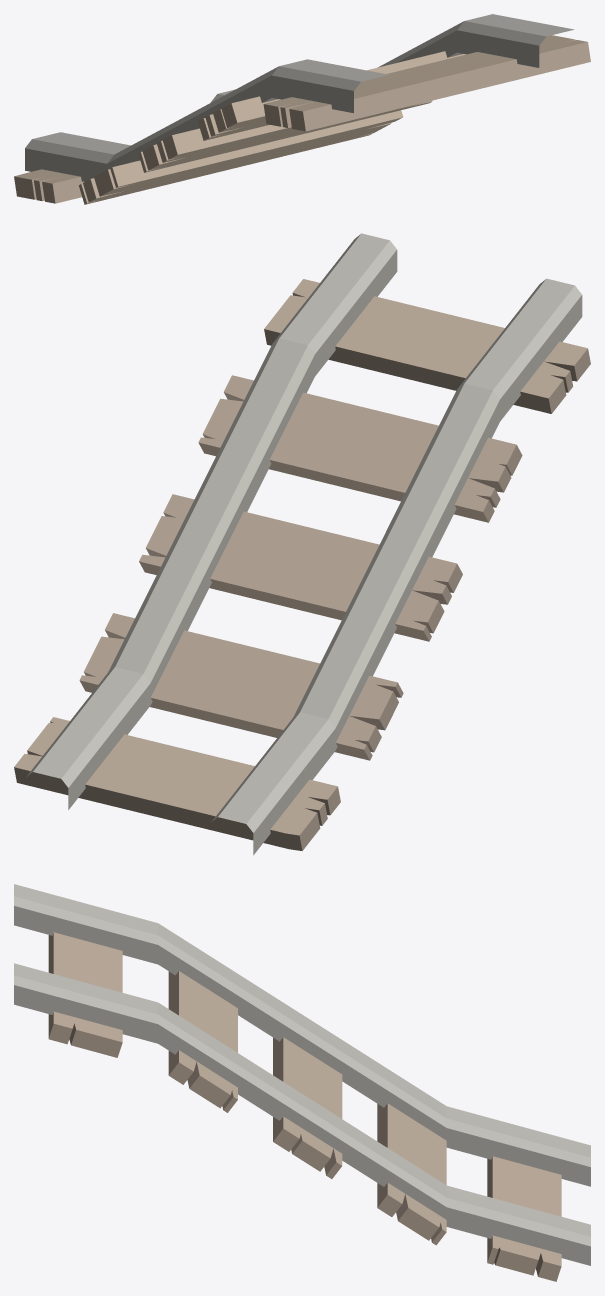
The model's file is Cave_Prop_Railway_Hill_Sharp.glb.
3 views of the same model, one above another, from view 1: azimuth 30°, elevation 25°; view 2: azimuth 150°, elevation 25°; view 3: azimuth 270°, elevation 25° (orthographic). The views are drawn at different scales.
Visible parts, largest first — view 1: Cave_Prop_Railway_Hill_Sharp; view 2: Cave_Prop_Railway_Hill_Sharp; view 3: Cave_Prop_Railway_Hill_Sharp.
Boxes of the visible parts, x1=… form: Cave_Prop_Railway_Hill_Sharp: x1=14, y1=14, x2=590, y2=204; Cave_Prop_Railway_Hill_Sharp: x1=14, y1=233, x2=590, y2=855; Cave_Prop_Railway_Hill_Sharp: x1=14, y1=884, x2=590, y2=1281.
Bounding box in the file's own units: 1 × 1.11 × 2.
